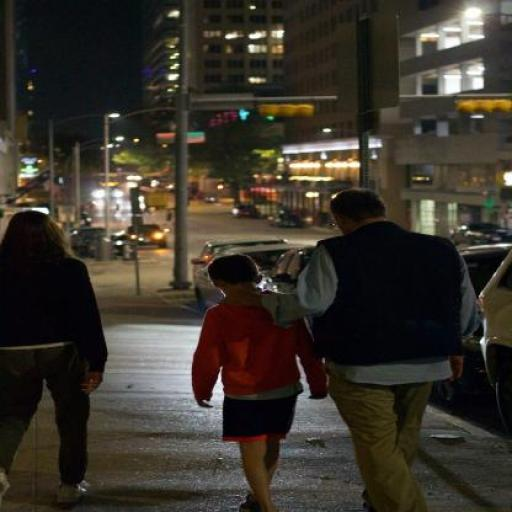street light: (47, 113, 120, 260), (74, 137, 125, 238), (462, 8, 510, 34)
